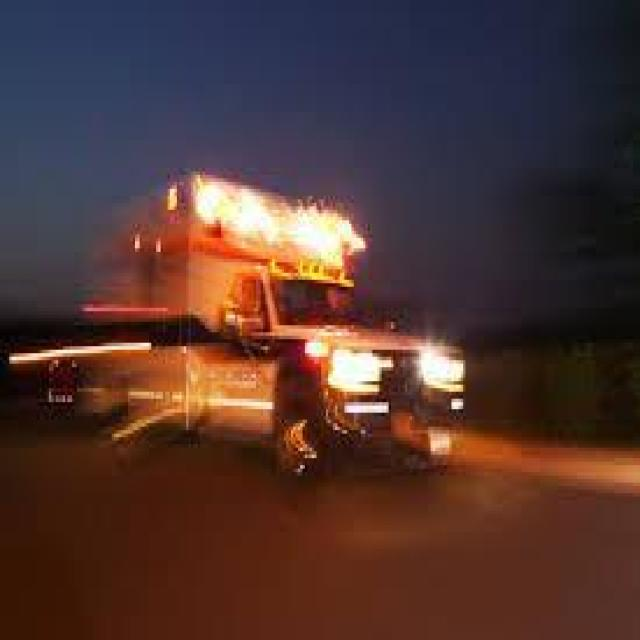other: (193, 160, 369, 305), (326, 337, 384, 402), (418, 343, 466, 396)
